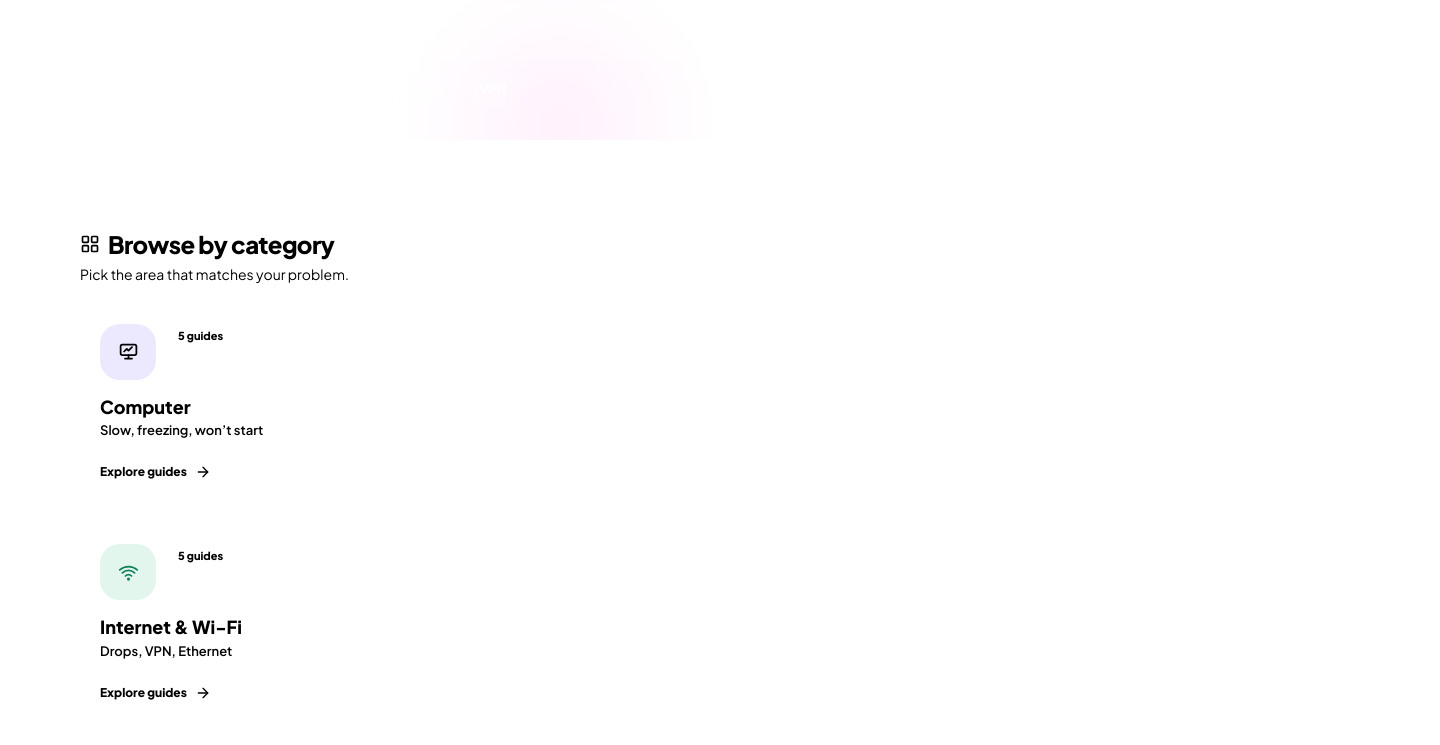
Scenario: HomePage › shows category discovery before showing filtered results
(page scrolled)
Check: the heading "Browse by category" is shown, box [80,228,349,260]
Check: the text "matching problems" is not shown
Click the button "Computer" at (720, 406), box [80,304,1360,508]
(page scrolled)
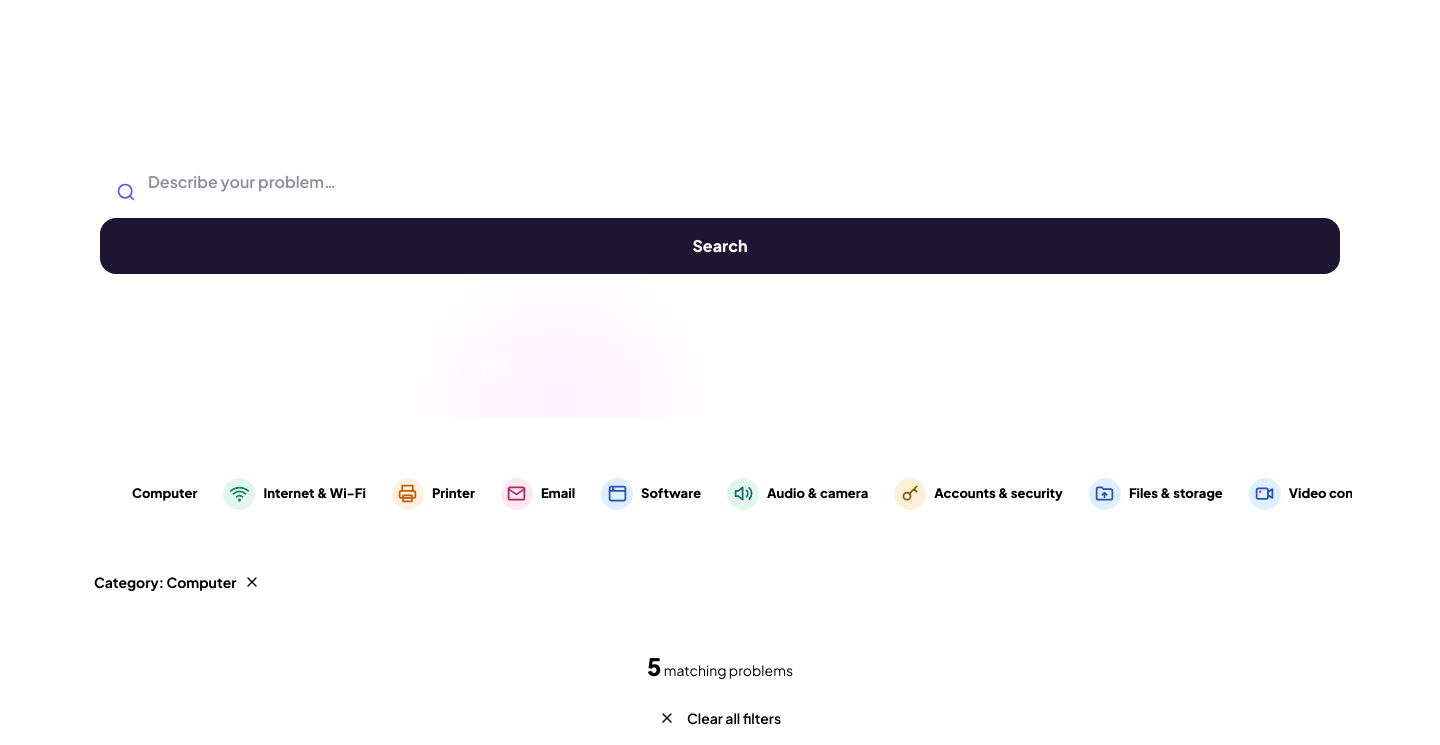
Check: the text "5 matching problems" is shown, box [647,650,793,682]
